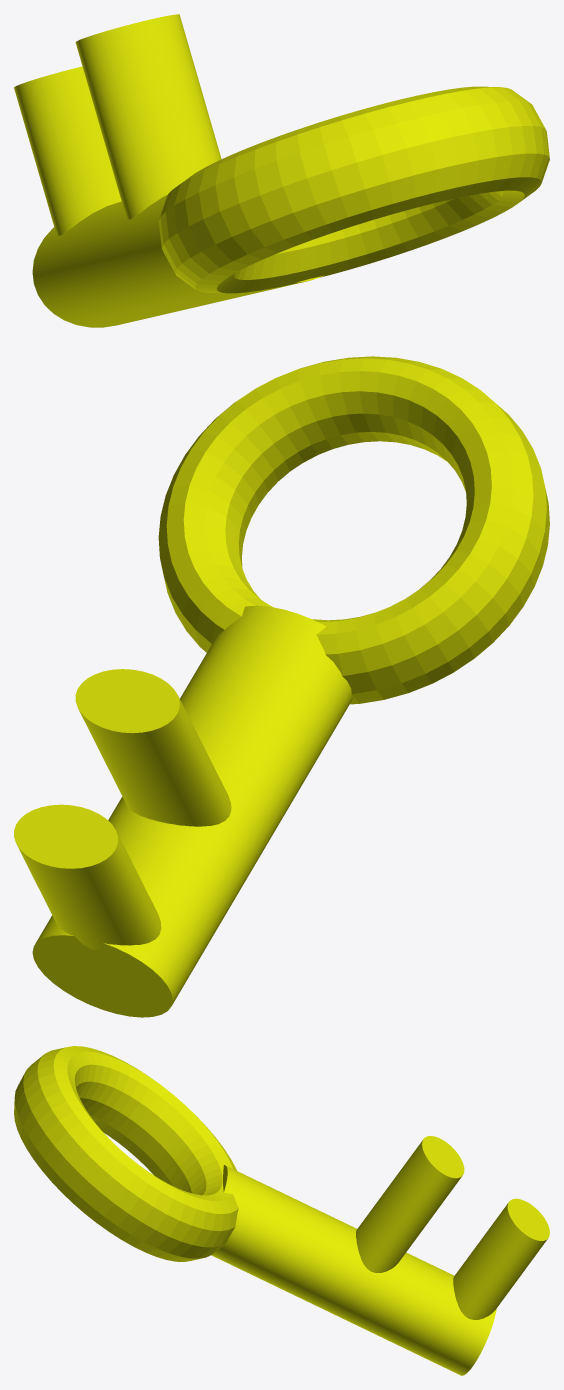
The model's file is Chave.fbx.
3 views of the same model, one above another, from view 1: azimuth 30°, elevation 25°; view 2: azimuth 150°, elevation 25°; view 3: azimuth 270°, elevation 25° (orthographic). The views are drawn at different scales.
Parts seen in each view (by area): view 1: Torus, Cylinder.003, Cylinder, Cylinder.001; view 2: Torus, Cylinder, Cylinder.003, Cylinder.001; view 3: Torus, Cylinder, Cylinder.003, Cylinder.001.
Part boxes in pixels (x1,y1,x2,y2): Torus: [158, 86, 549, 293]; Cylinder.003: [75, 14, 221, 219]; Cylinder: [32, 194, 324, 327]; Cylinder.001: [14, 66, 121, 235]; Torus: [158, 356, 549, 704]; Cylinder: [32, 605, 352, 1017]; Cylinder.003: [75, 669, 231, 826]; Cylinder.001: [14, 804, 161, 949]; Torus: [14, 1046, 238, 1261]; Cylinder: [211, 1165, 496, 1375]; Cylinder.003: [356, 1136, 464, 1272]; Cylinder.001: [453, 1198, 549, 1319].
Size of the model in its own units: 186 by 219 by 351.
